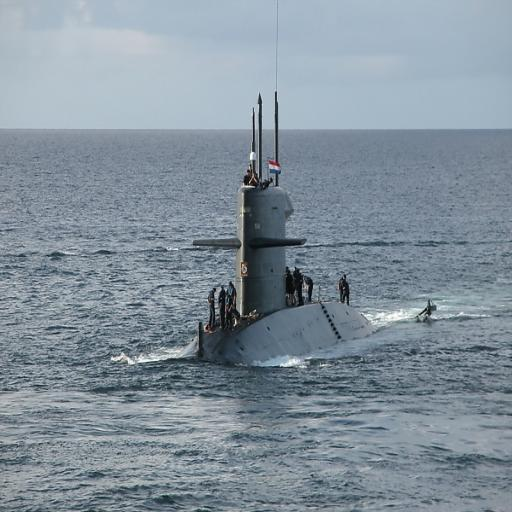submarine: (169, 78, 439, 374)
